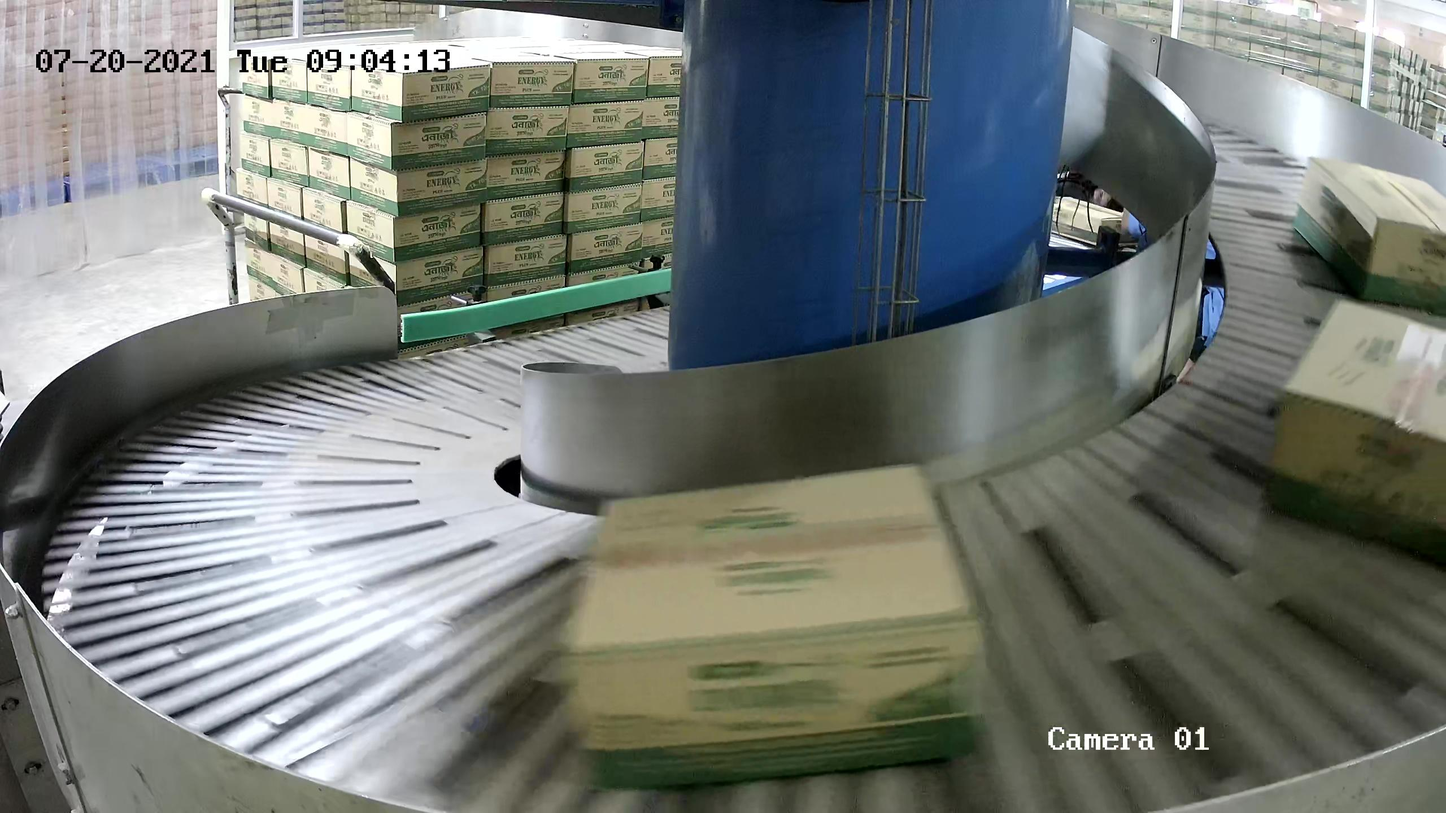Box: (562, 454, 993, 787), (1263, 295, 1446, 570), (1291, 153, 1446, 316)
